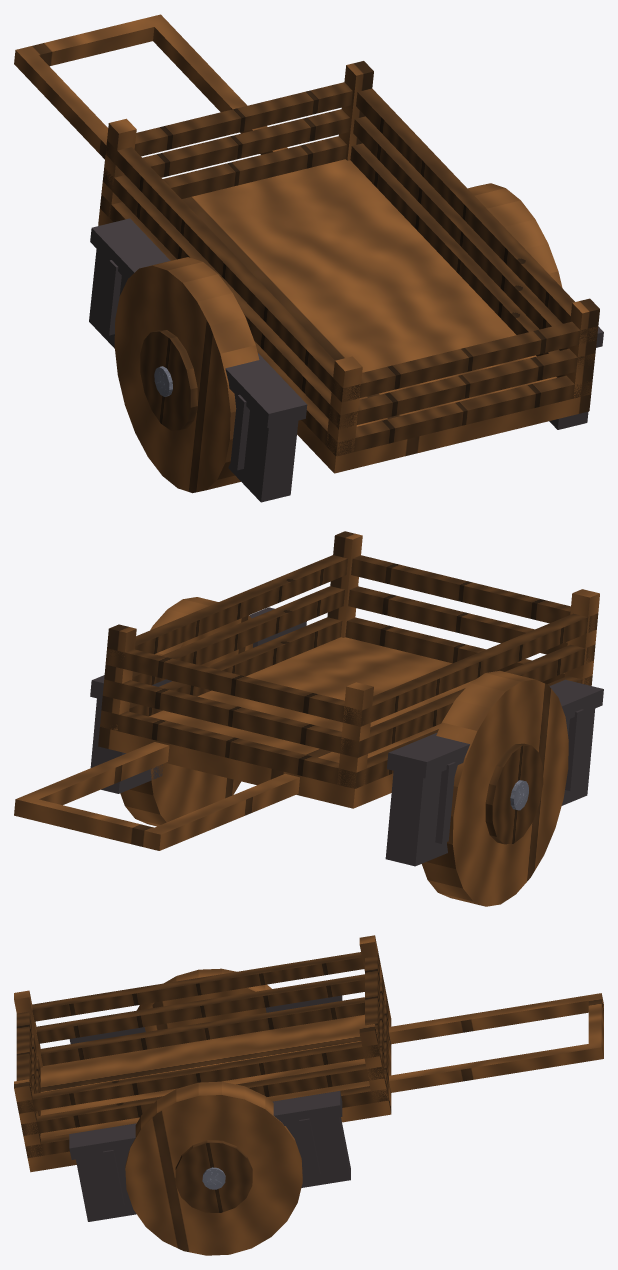
File: holzwagen_t1_hand.fbx
The picture shows the model from 3 angles, top to bottom: view 1: azimuth 30°, elevation 25°; view 2: azimuth 150°, elevation 25°; view 3: azimuth 270°, elevation 25°; orthographic projection. The views are drawn at different scales.
Parts seen in each view (by area): view 1: Holzwagen_T1; view 2: Holzwagen_T1; view 3: Holzwagen_T1.
Boxes of the visible parts, x1=… form: Holzwagen_T1: x1=14, y1=14, x2=603, y2=502; Holzwagen_T1: x1=14, y1=531, x2=603, y2=906; Holzwagen_T1: x1=14, y1=935, x2=603, y2=1255.
Size of the model in its own units: 121 by 88.37 by 225.
